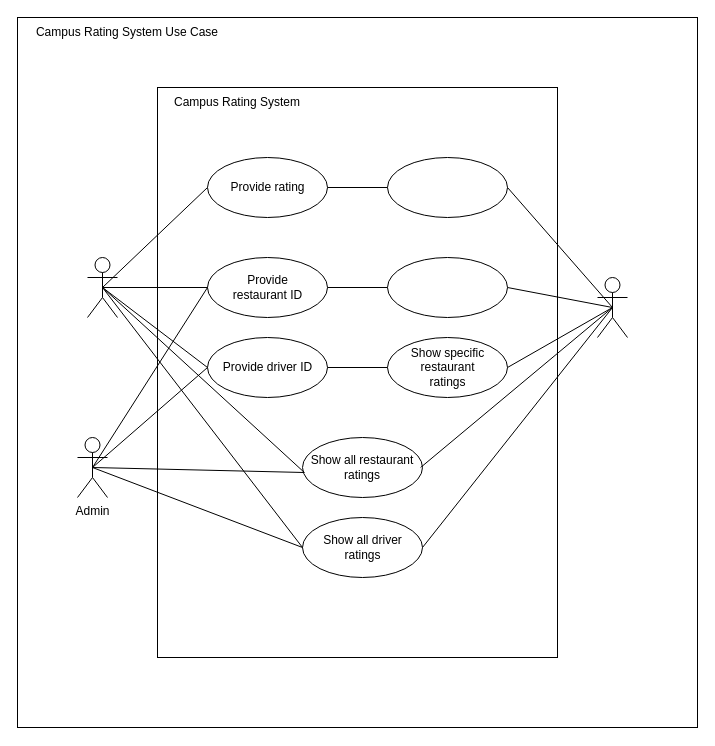
The diagram is 715 pixels wide and 746 high, and some of its shapes have lost their labels. Here are the shapes that lost their labels. From the top down, the centre of each, then its label:
At point (447, 187): "Add rating".
At point (102, 287): "Customer".
At point (447, 287): "Show specific driver ratings".
At point (612, 307): "Database".
